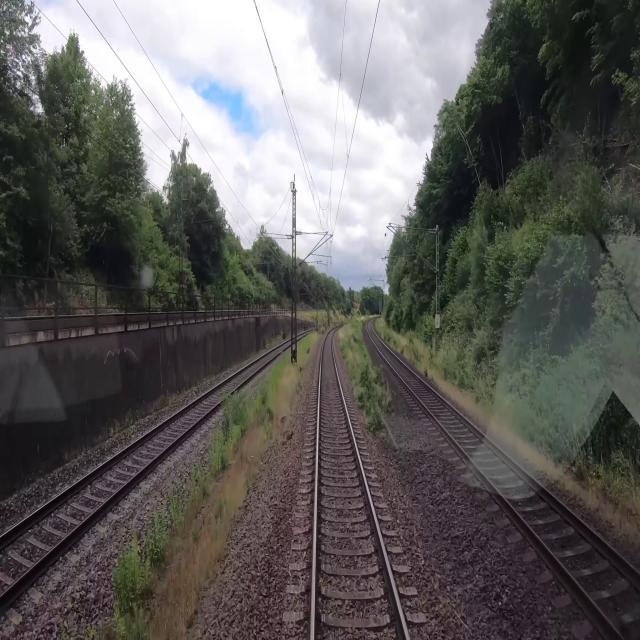Plant: (55, 334, 316, 639), (339, 319, 397, 437)
